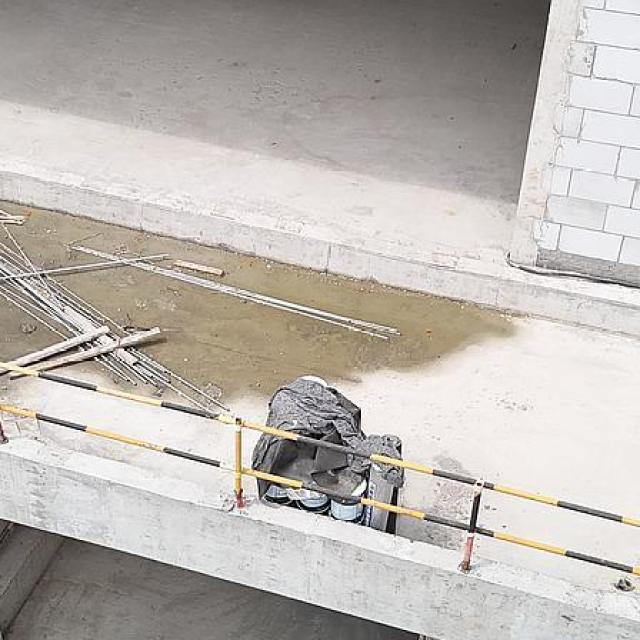edge_guardrail: (0, 358, 640, 576)
